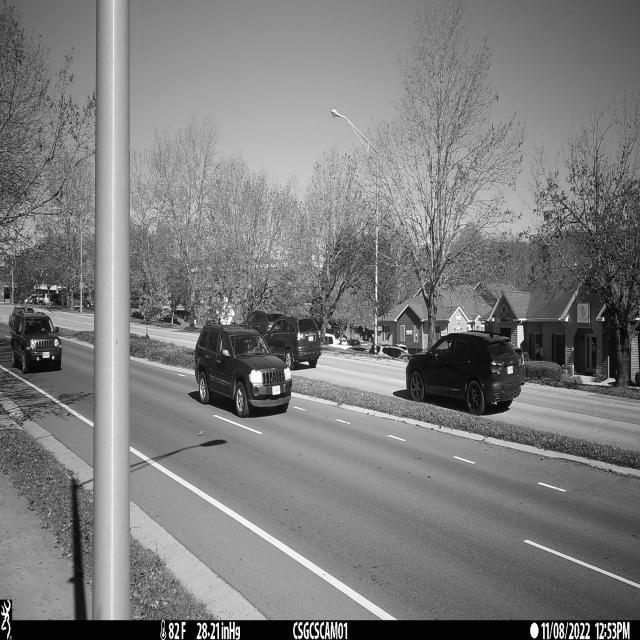SUV: (194, 322, 293, 418)
